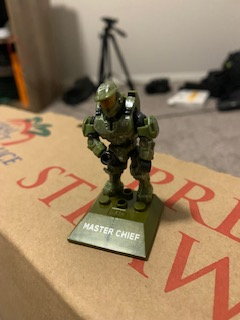chief: (81, 78, 159, 203)
spartan: (79, 76, 157, 201)
